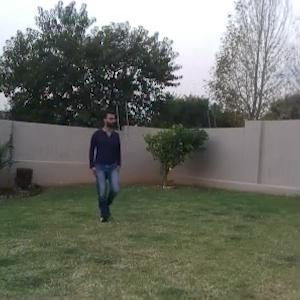follow: (85, 105, 128, 229)
